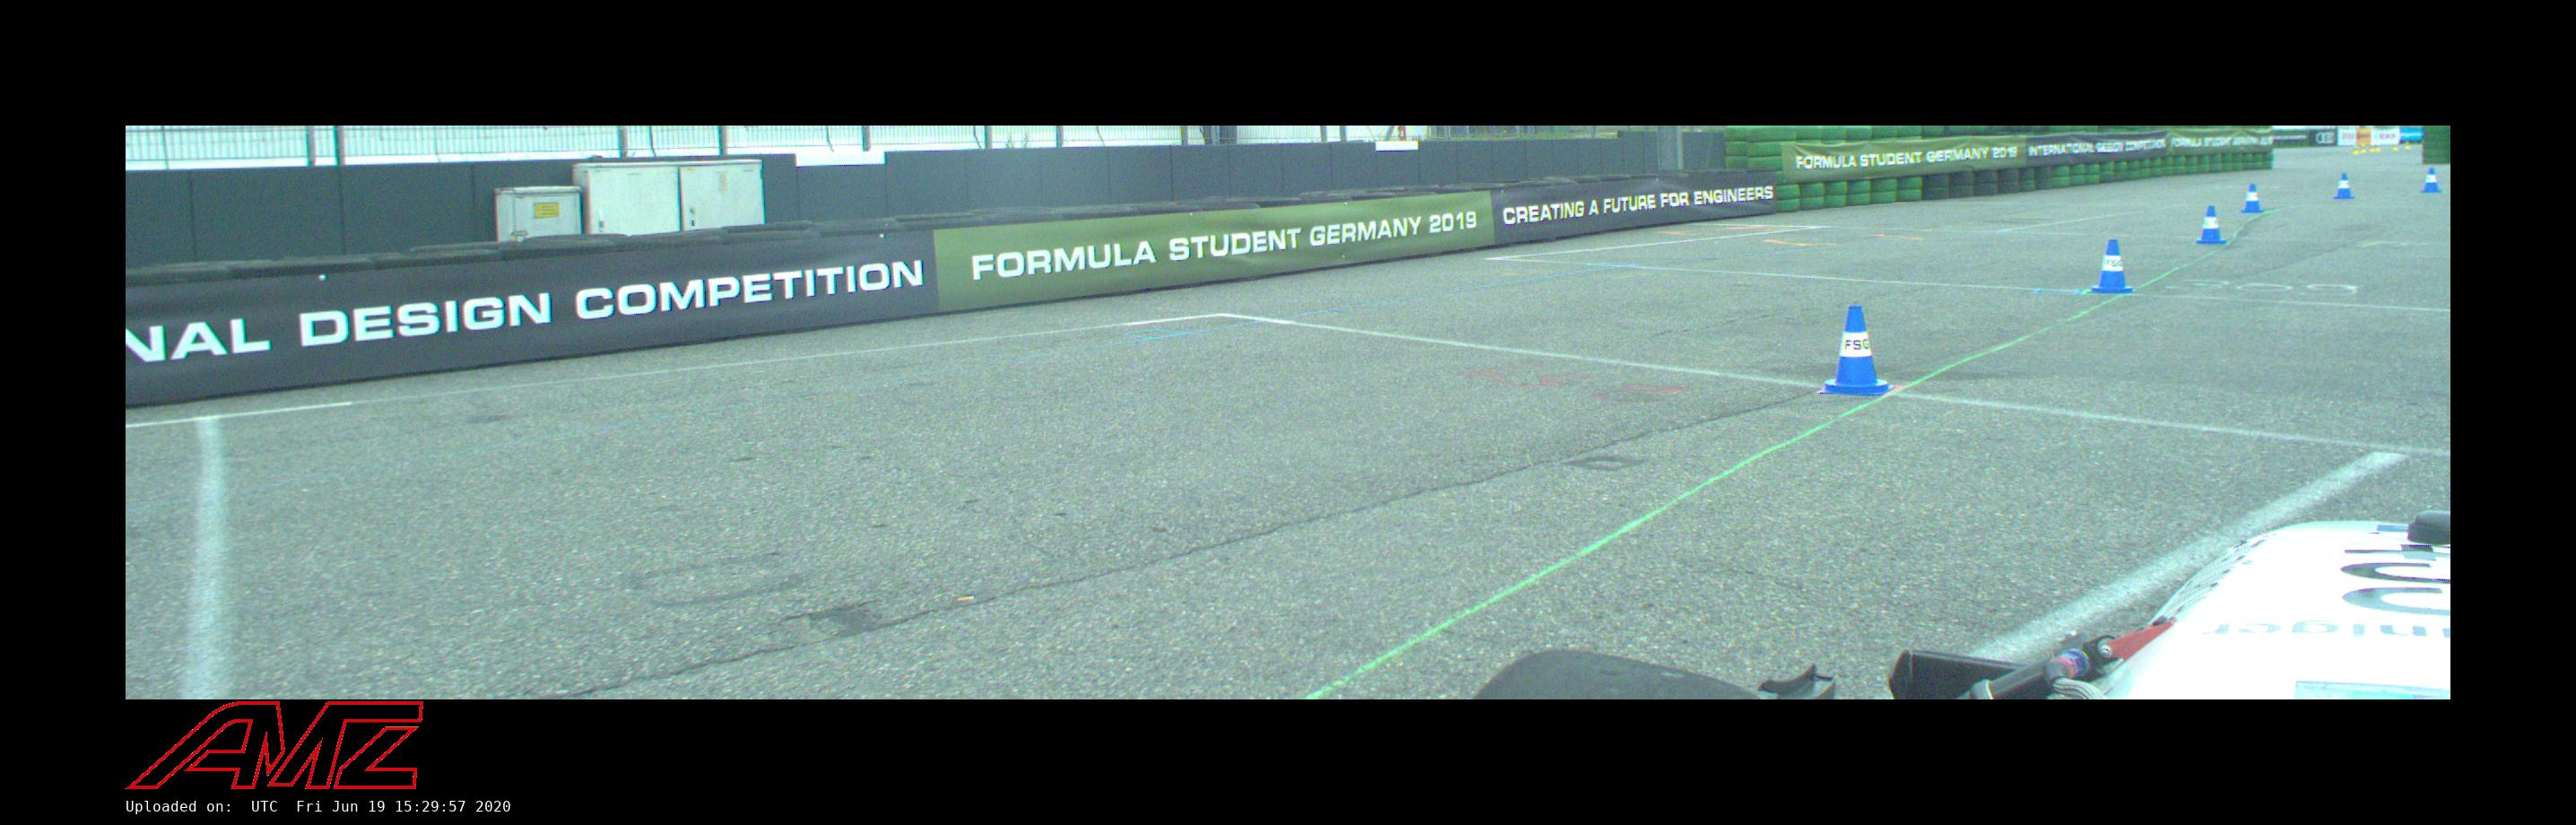blue_cone: (1820, 306, 1894, 396), (2090, 240, 2132, 294), (2196, 205, 2226, 243), (2241, 184, 2262, 212), (2334, 173, 2354, 199), (2422, 166, 2441, 192)
